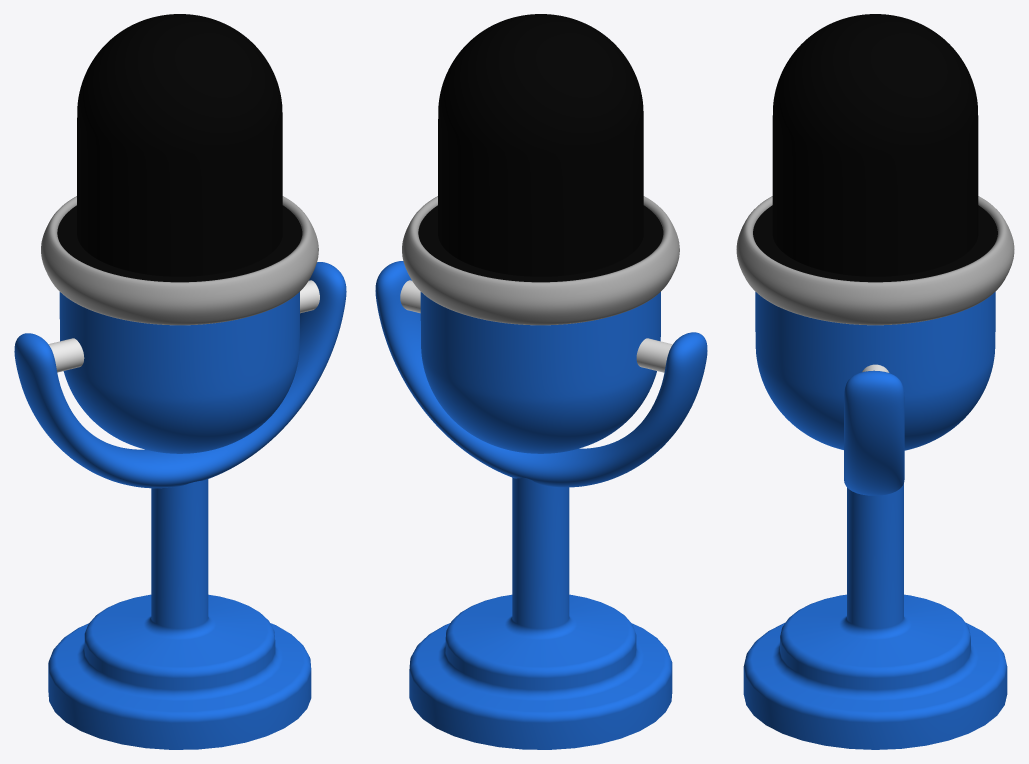
Rendered from microphone.glb.
3 renders of one model, left to right at view 1: azimuth 30°, elevation 25°; view 2: azimuth 150°, elevation 25°; view 3: azimuth 270°, elevation 25°, orthographic.
Visible parts, largest first — view 1: Cylinder.008, Cylinder.013, Cylinder.012, Circle.001, Cylinder.011, Cylinder.007, Cylinder.009; view 2: Cylinder.008, Cylinder.013, Cylinder.012, Circle.001, Cylinder.011, Cylinder.007, Cylinder.009; view 3: Cylinder.008, Cylinder.013, Cylinder.012, Cylinder.011, Circle.001, Cylinder.007.
Boxes of the visible parts, x1,y1,x2,y2 form: Cylinder.008: [77, 14, 282, 276]; Cylinder.013: [48, 479, 311, 749]; Cylinder.012: [59, 292, 299, 453]; Circle.001: [14, 262, 346, 488]; Cylinder.011: [41, 196, 318, 325]; Cylinder.007: [57, 205, 302, 282]; Cylinder.009: [48, 280, 319, 372]; Cylinder.008: [438, 14, 643, 276]; Cylinder.013: [409, 477, 672, 749]; Cylinder.012: [420, 292, 660, 453]; Circle.001: [375, 261, 707, 487]; Cylinder.011: [402, 196, 679, 325]; Cylinder.007: [418, 205, 663, 282]; Cylinder.009: [400, 280, 672, 372]; Cylinder.008: [772, 14, 978, 276]; Cylinder.013: [743, 483, 1007, 749]; Cylinder.012: [755, 292, 995, 450]; Cylinder.011: [736, 196, 1014, 325]; Circle.001: [844, 370, 904, 495]; Cylinder.007: [753, 205, 997, 282].
Bounding box in the file's own units: 0.0795 × 0.1601 × 0.0603.
